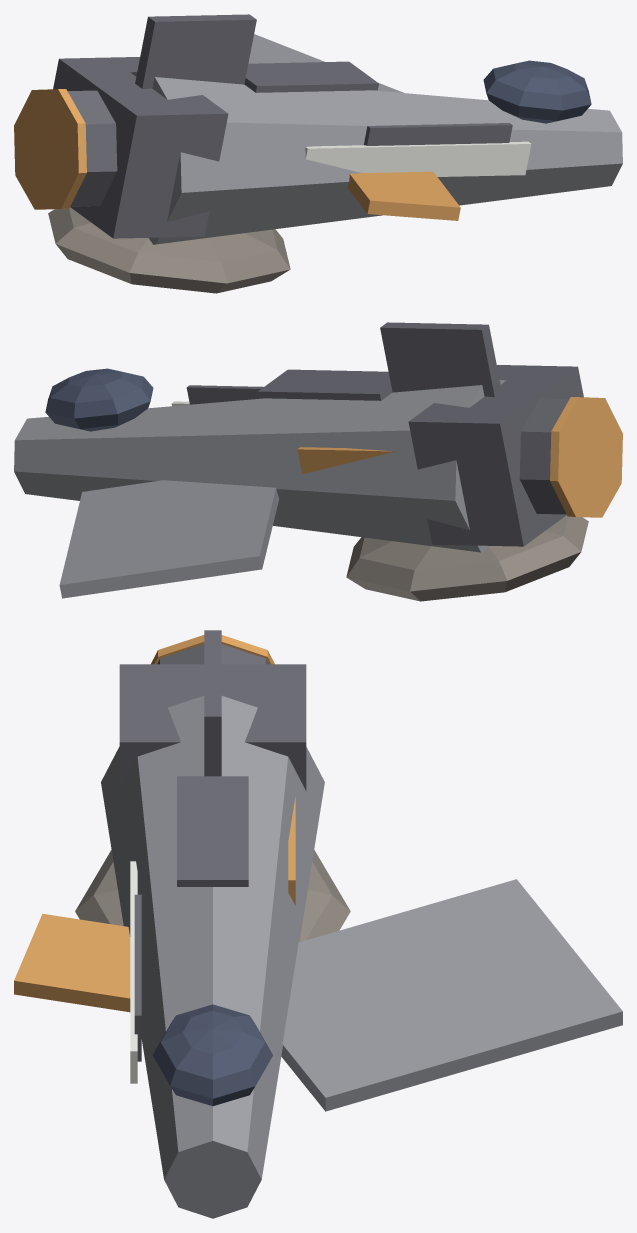
The model's file is DerelictShip.fbx.
3 views of the same model, one above another, from view 1: azimuth 30°, elevation 25°; view 2: azimuth 150°, elevation 25°; view 3: azimuth 270°, elevation 25° (orthographic). The views are drawn at different scales.
Visible parts, largest first — view 1: Ship_Hull, Ship_EngineBlock, Ship_CrashMound, Ship_NozzleRing, Ship_TailFin, Ship_Panel, Ship_Cockpit, Ship_WingStub, Ship_ScorchTop, Ship_Nozzle, Ship_ScorchSide, Ship_Wing; view 2: Ship_Hull, Ship_Wing, Ship_EngineBlock, Ship_CrashMound, Ship_NozzleRing, Ship_TailFin, Ship_Cockpit, Ship_ScorchTop, Ship_Nozzle, Ship_RustPanel, Ship_ScorchSide; view 3: Ship_Hull, Ship_Wing, Ship_EngineBlock, Ship_WingStub, Ship_Cockpit, Ship_ScorchTop, Ship_CrashMound, Ship_TailFin, Ship_Panel, Ship_Nozzle, Ship_ScorchSide, Ship_NozzleRing.
Boxes of the visible parts, bbox=[...] form: Ship_Hull: bbox=[130, 72, 622, 244]; Ship_EngineBlock: bbox=[53, 57, 228, 238]; Ship_CrashMound: bbox=[48, 207, 290, 293]; Ship_NozzleRing: bbox=[14, 89, 86, 209]; Ship_TailFin: bbox=[135, 14, 256, 88]; Ship_Panel: bbox=[305, 141, 531, 176]; Ship_Cockpit: bbox=[483, 60, 591, 123]; Ship_WingStub: bbox=[347, 171, 460, 220]; Ship_ScorchTop: bbox=[244, 61, 378, 92]; Ship_Nozzle: bbox=[68, 90, 117, 206]; Ship_ScorchSide: bbox=[364, 123, 512, 145]; Ship_Wing: bbox=[248, 34, 403, 92]; Ship_Hull: bbox=[14, 380, 506, 552]; Ship_Wing: bbox=[59, 480, 279, 598]; Ship_EngineBlock: bbox=[408, 365, 583, 546]; Ship_CrashMound: bbox=[346, 515, 588, 601]; Ship_NozzleRing: bbox=[550, 397, 622, 517]; Ship_TailFin: bbox=[380, 322, 501, 396]; Ship_Cockpit: bbox=[45, 368, 153, 431]; Ship_ScorchTop: bbox=[258, 369, 392, 400]; Ship_Nozzle: bbox=[519, 398, 568, 514]; Ship_RustPanel: bbox=[297, 447, 395, 474]; Ship_ScorchSide: bbox=[186, 385, 263, 404]; Ship_Hull: bbox=[101, 696, 324, 1218]; Ship_Wing: bbox=[281, 879, 622, 1111]; Ship_EngineBlock: bbox=[119, 664, 306, 790]; Ship_WingStub: bbox=[14, 913, 130, 1012]; Ship_Cockpit: bbox=[152, 1004, 272, 1106]; Ship_ScorchTop: bbox=[177, 776, 248, 886]; Ship_CrashMound: bbox=[75, 850, 350, 941]; Ship_TailFin: bbox=[204, 630, 221, 776]; Ship_Panel: bbox=[130, 861, 137, 1083]; Ship_Nozzle: bbox=[157, 644, 268, 664]; Ship_ScorchSide: bbox=[134, 894, 141, 1061]; Ship_NozzleRing: bbox=[151, 635, 274, 664].
Size of the model in its own units: 5.53 by 2.53 by 4.24.
